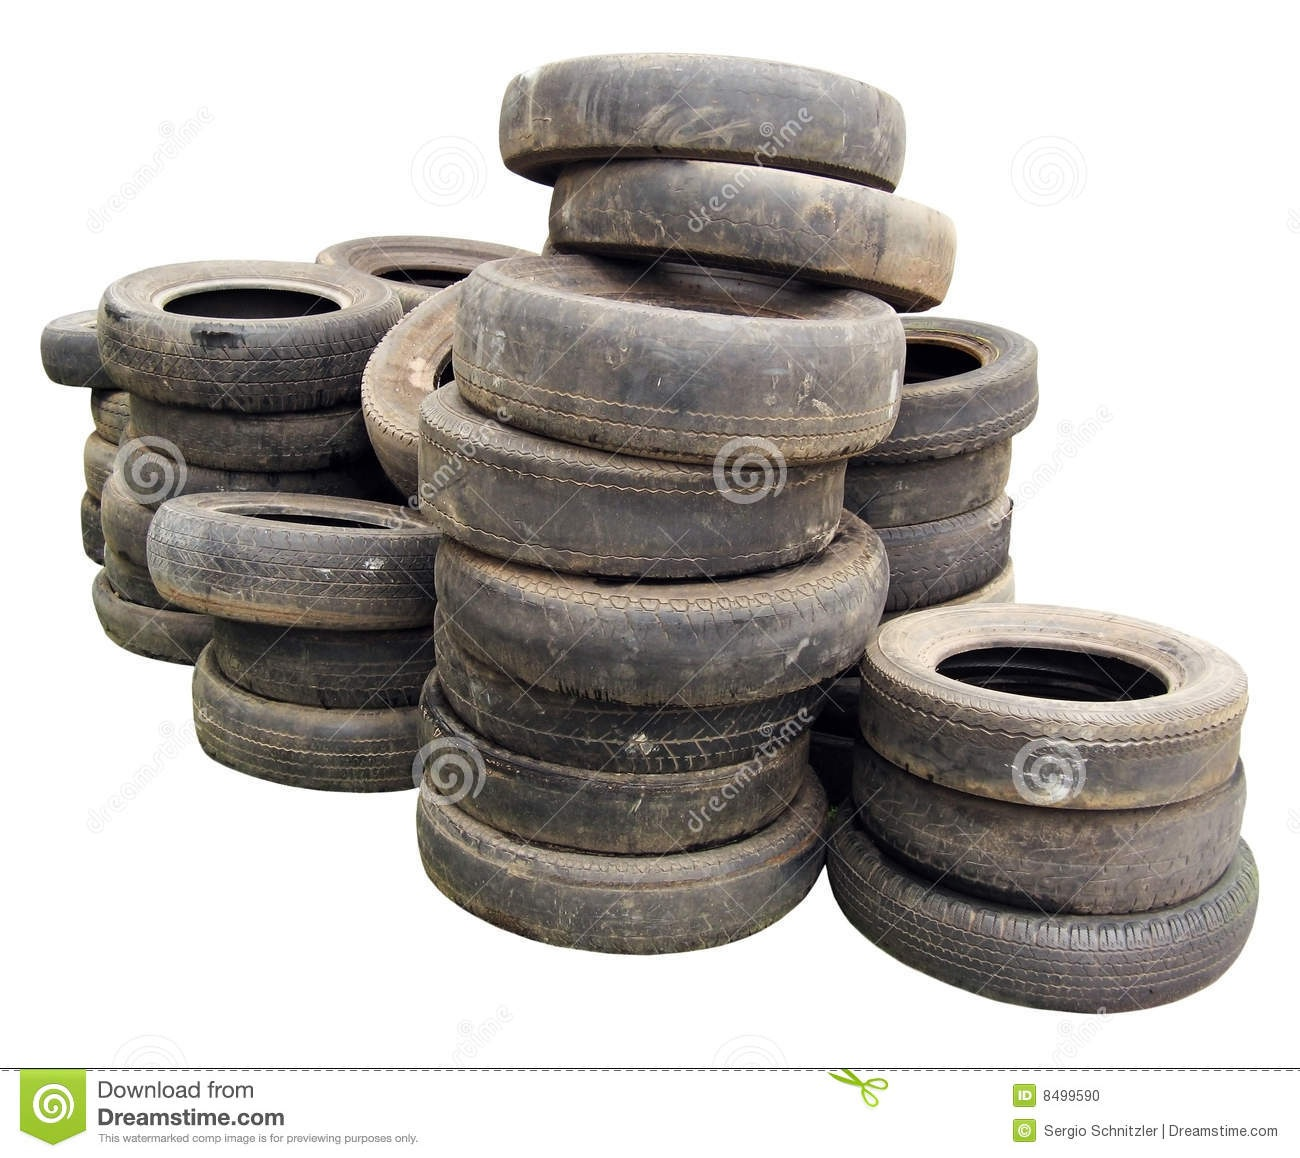tire: (448, 273, 915, 447), (860, 602, 1243, 807), (398, 404, 851, 573), (824, 835, 1272, 1000), (831, 740, 1265, 907), (386, 797, 853, 947), (526, 152, 972, 300), (415, 550, 905, 683), (472, 59, 934, 194), (396, 704, 834, 823), (408, 633, 827, 747), (96, 250, 401, 397), (724, 321, 1048, 457), (141, 485, 434, 623), (146, 485, 450, 616), (174, 670, 480, 790), (203, 614, 507, 708), (770, 492, 1046, 592), (108, 395, 386, 485), (777, 445, 1027, 519)
